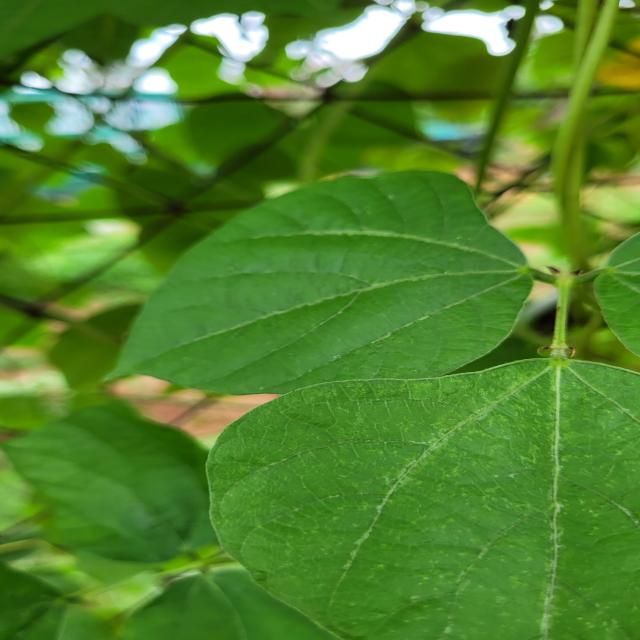Dolicos bean_healthy: (205, 345, 640, 640), (130, 170, 533, 396), (18, 375, 224, 561)
